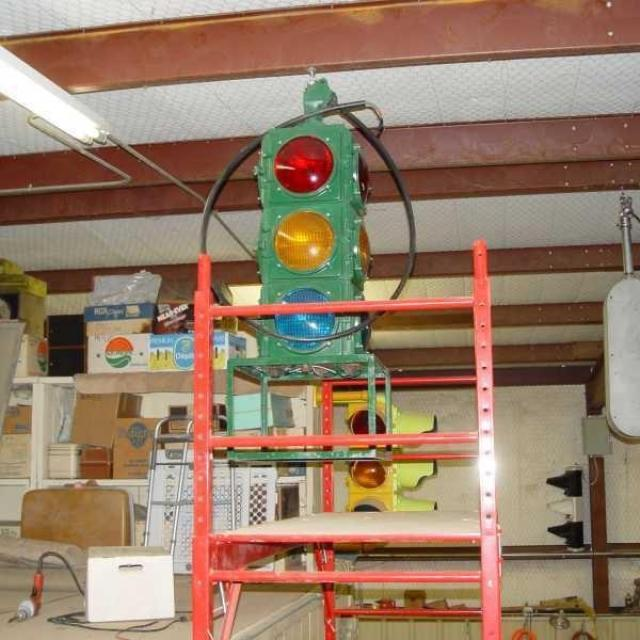Traffic Light -Green-: (262, 286, 349, 354)
Traffic Light -Red-: (256, 132, 360, 204)
Traffic Light -Yellow-: (260, 207, 351, 280)
